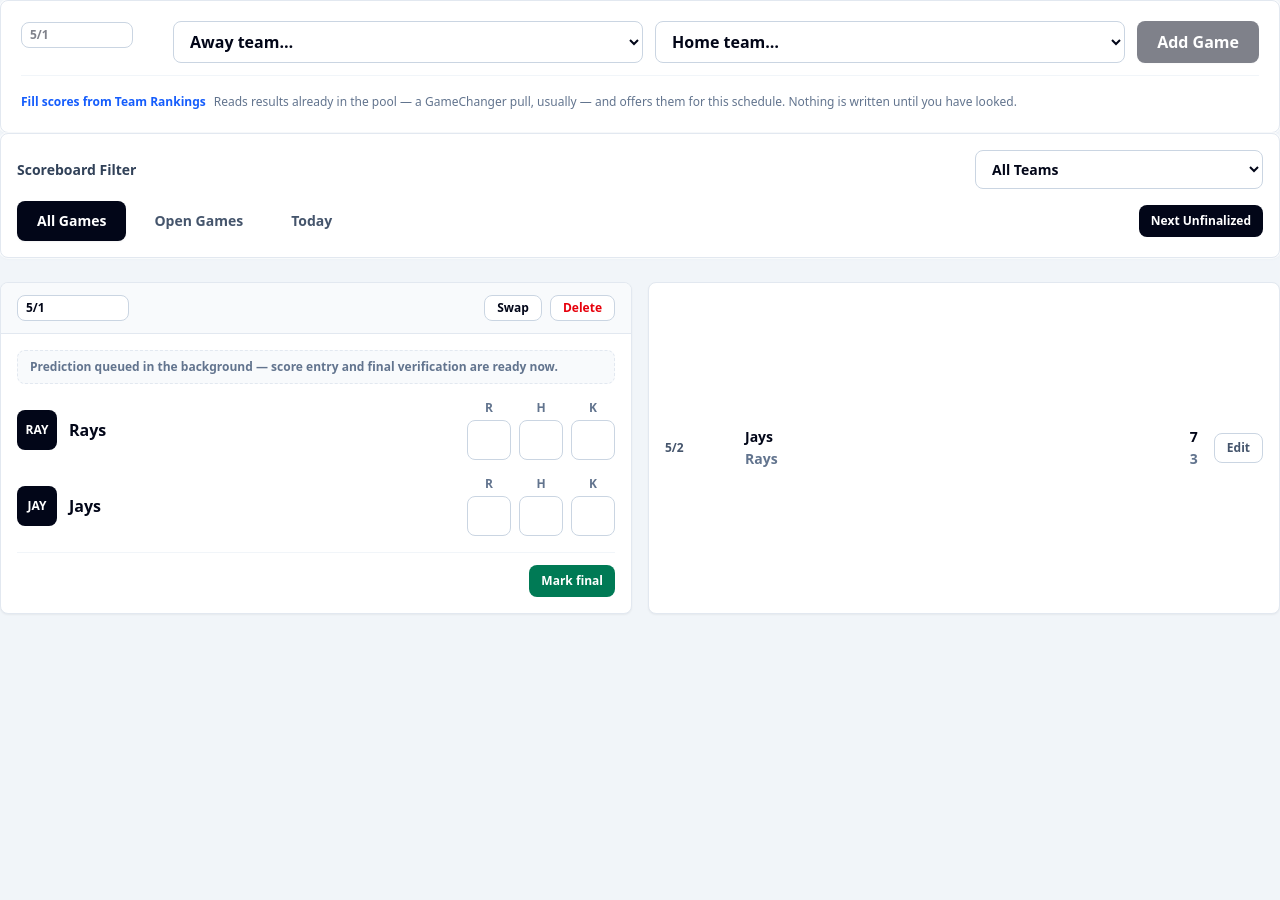
Test: what a game card can do to the schedule › names the press in the header button, not the state the game is in
The width and height of the screenshot is (1280, 900).
Expected: the button with aria-label "Mark game as final" reads "Mark final", [529,565,615,597]
Expected: the number of buttons named "mark game as final" is 1, [529,565,615,597]
Click the button with aria-label "edit final" at (1238, 448), box [1214,433,1263,463]
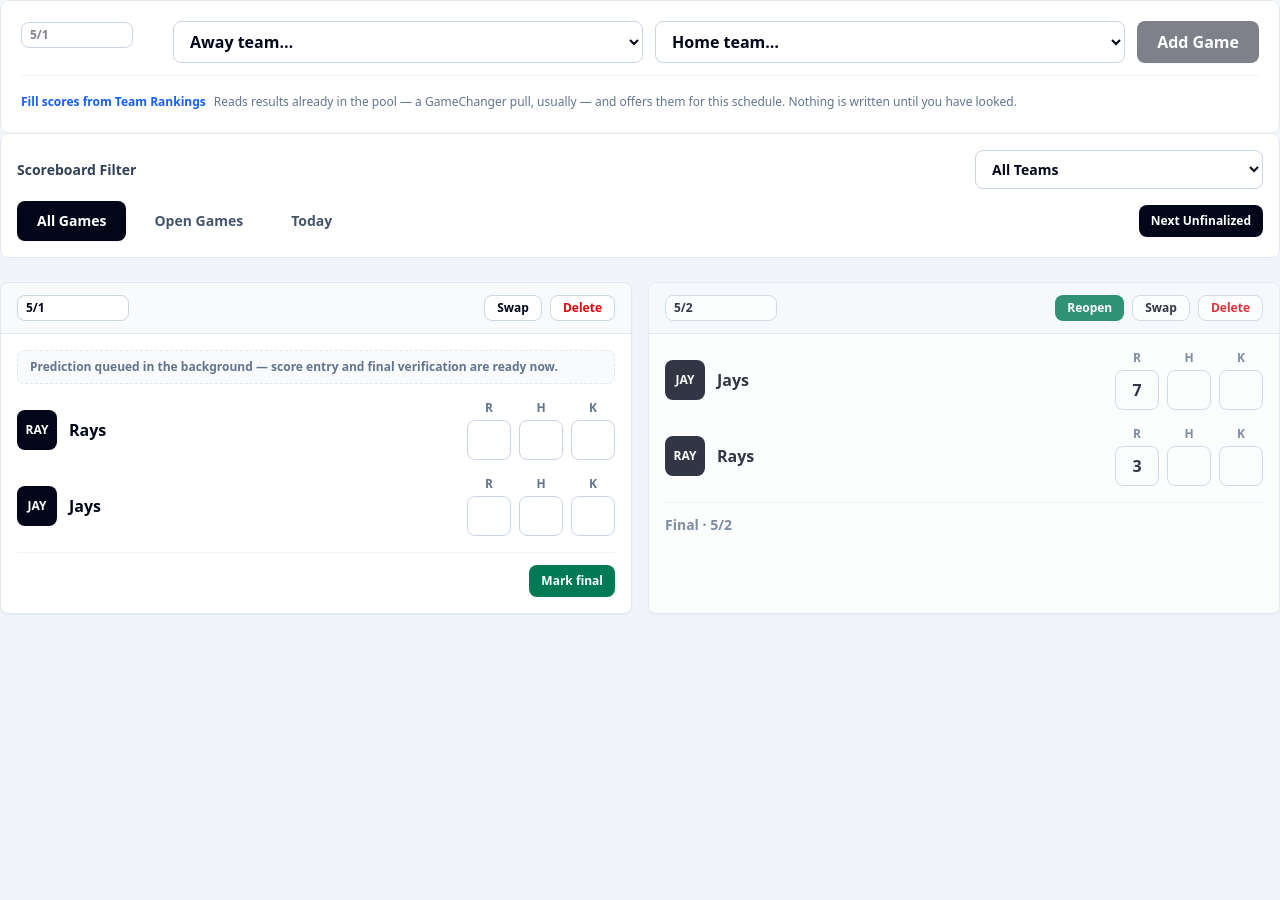
Result: the button with aria-label "Mark game as scheduled" reads "Reopen" at [1055,295,1124,321]
